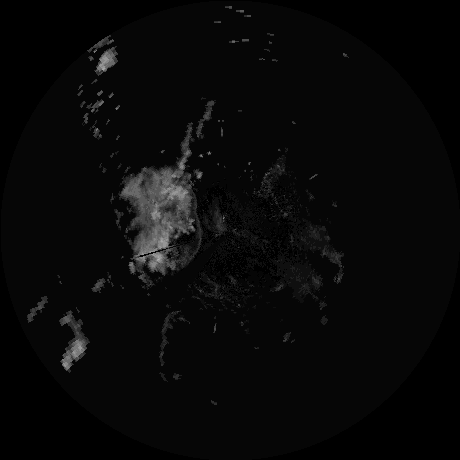frontgust: (191, 193, 203, 265), (158, 314, 173, 371)
